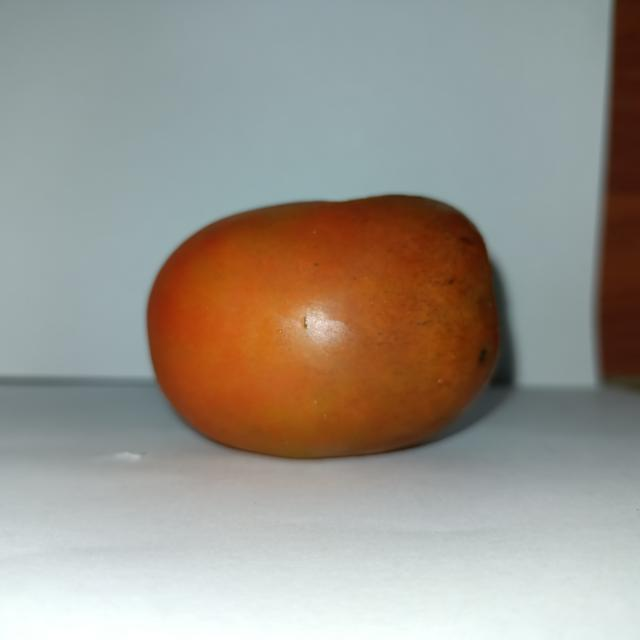Red: (144, 191, 502, 459)
